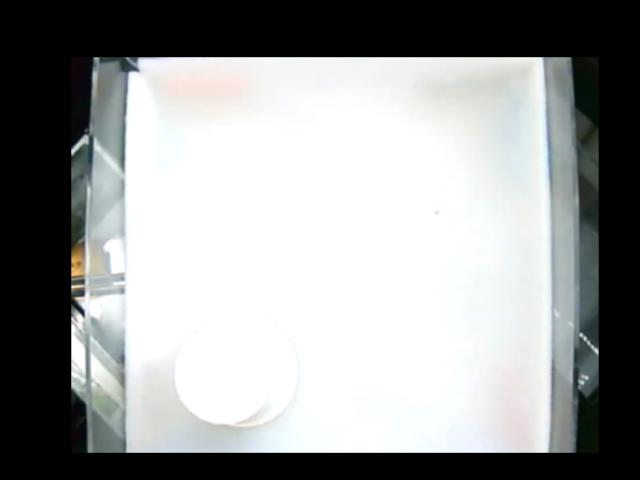Cup: (172, 311, 300, 428)
